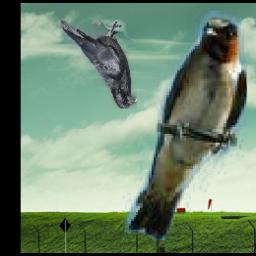Crow: (60, 21, 137, 109)
Swallow: (123, 12, 248, 241)
